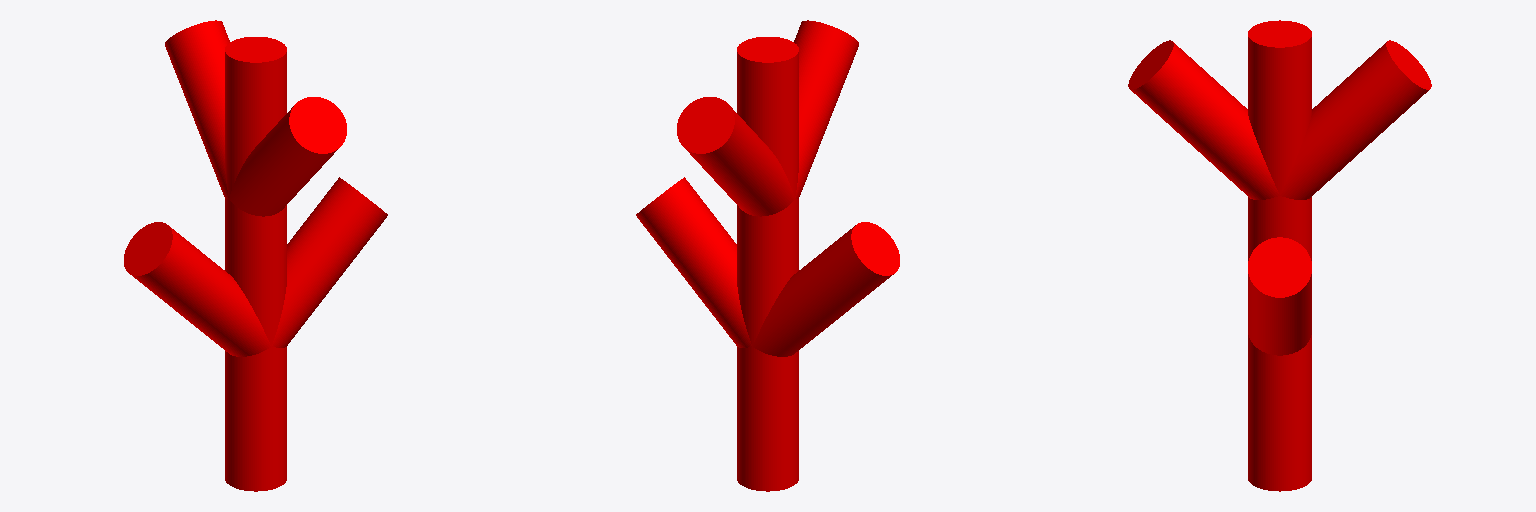
robot.urdf — tree.urdf:
<?xml version="1.0" ?>
<robot name="tree.urdf">
  <link name="baseLink">
    <inertial>
      <origin rpy="0 0 0" xyz="0 0 0"/>
       <mass value=".1"/>
       <inertia ixx="1" ixy="0" ixz="0" iyy="1" iyz="0" izz="1"/>
    </inertial>
    <visual>
      <origin rpy="0 0 0" xyz="0 0 0"/>
      <geometry>
        <mesh filename="4.stl" scale="1 1 1" />
      </geometry>
      <material name="red">
        <color rgba="1 0 0 1"/>
      </material>
    </visual>
    <collision>
      <origin rpy="0 0 0" xyz="0 0 0"/>
      <geometry>
        <mesh filename="4_convex.obj" scale="1 1 1" />
      </geometry>
    </collision>
  </link>
</robot>

--- Render facts (derived) ---
The picture shows the robot from 3 angles, left to right: view 1: azimuth 30°, elevation 25°; view 2: azimuth 150°, elevation 25°; view 3: azimuth 270°, elevation 25°; orthographic projection.
Robot: tree.urdf — 1 links, 0 joints (none); root link baseLink; default pose: every joint at zero.
Links seen in each view (by area): view 1: baseLink; view 2: baseLink; view 3: baseLink.
Boxes of the visible links, <box> form: baseLink: <box>124,20,387,491</box>; baseLink: <box>636,20,899,491</box>; baseLink: <box>1128,20,1431,491</box>.
Size in the robot's own frame: 0.2628 by 0.2628 by 0.4241 metres.
Meshes: 1 distinct files referenced, 1 mesh visuals loaded (1 binary STL).